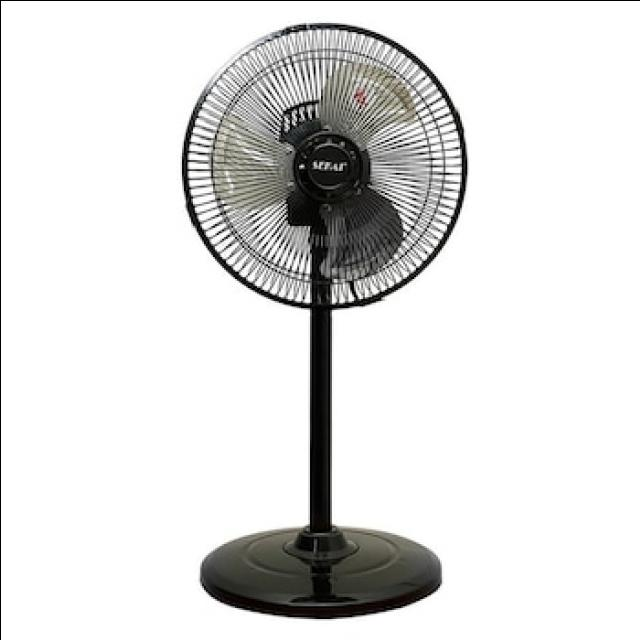fan: (169, 20, 475, 619)
